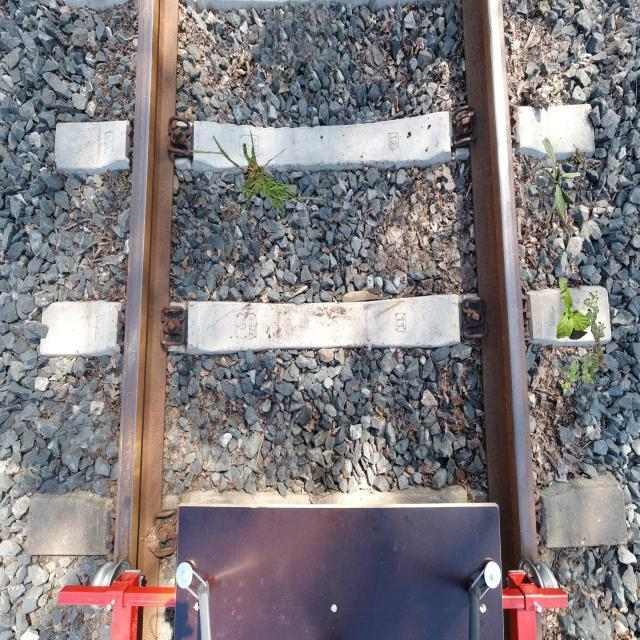Plant: (189, 127, 332, 217), (560, 290, 608, 393), (541, 137, 581, 220), (556, 277, 592, 340)
